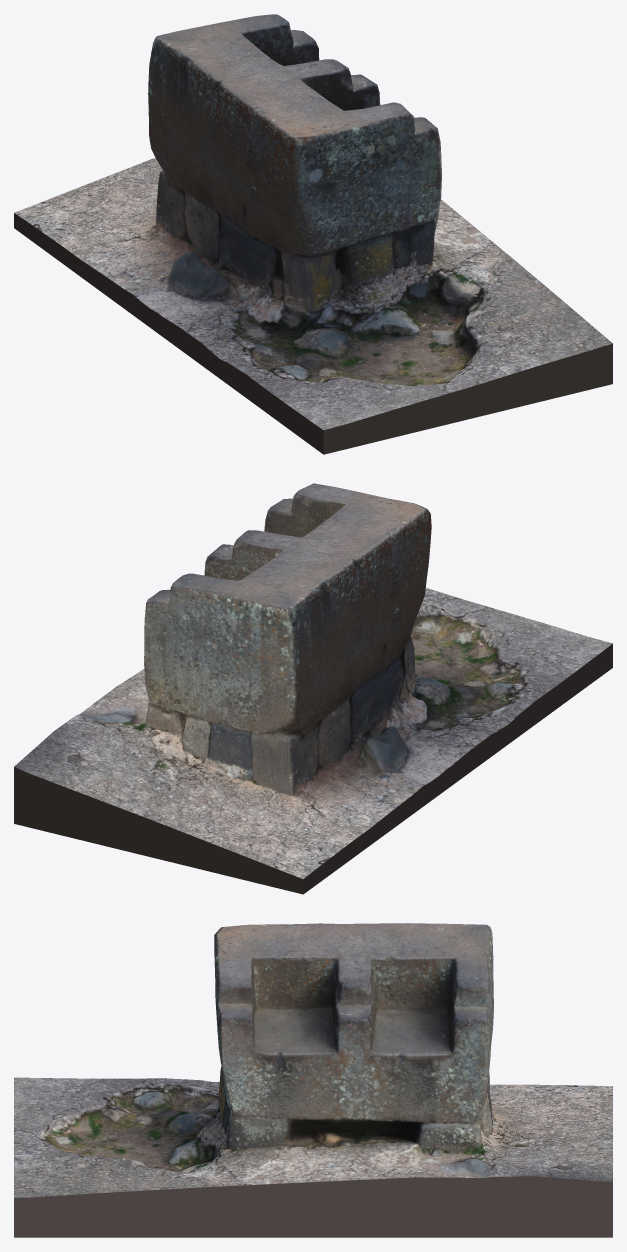
The model's file is asiento_del_inca.glb.
3 renders of one model, top to bottom at view 1: azimuth 30°, elevation 25°; view 2: azimuth 150°, elevation 25°; view 3: azimuth 270°, elevation 25°, orthographic. The views are drawn at different scales.
Parts seen in each view (by area): view 1: Box002; view 2: Box002; view 3: Box002.
Boxes of the visible parts, <box> form: Box002: <box>14,14,612,454</box>; Box002: <box>14,483,612,894</box>; Box002: <box>14,923,612,1237</box>.
Size of the model in its own units: 105 by 77.18 by 195.
1 material, 1 textured.
